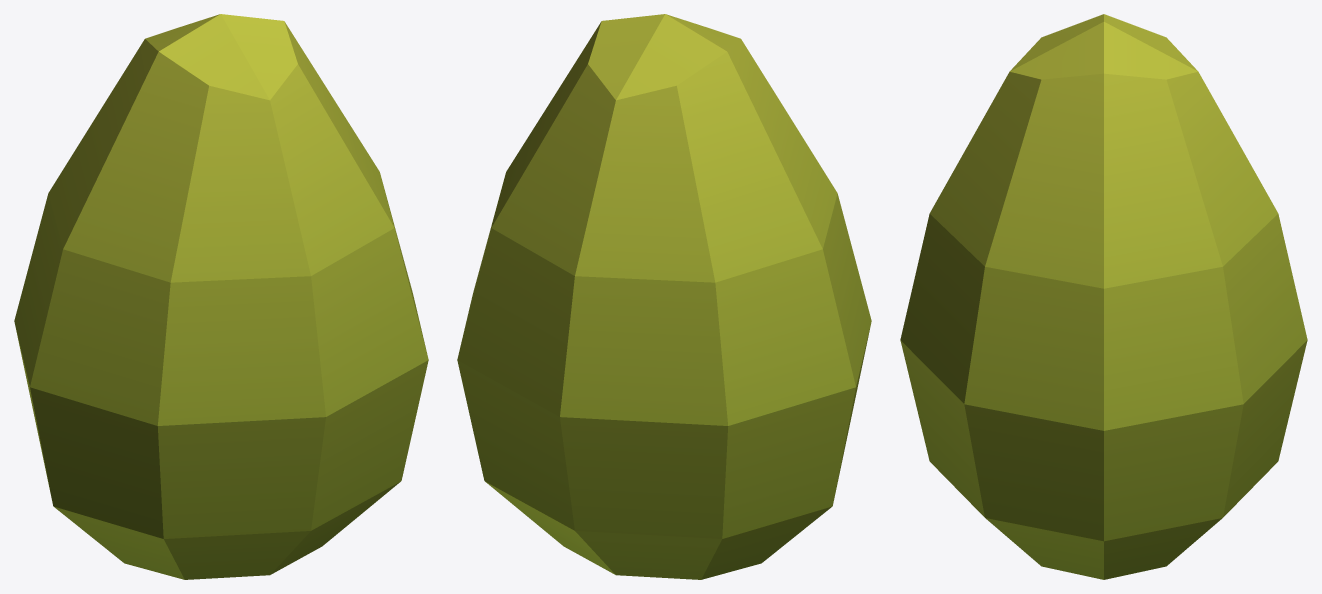
The model's file is Avocado.fbx.
3 renders of one model, left to right at view 1: azimuth 30°, elevation 25°; view 2: azimuth 150°, elevation 25°; view 3: azimuth 270°, elevation 25°, orthographic. The views are drawn at different scales.
Parts seen in each view (by area): view 1: Avocado; view 2: Avocado; view 3: Avocado.
Part boxes in pixels (<box>): Avocado: <box>14,14,428,579</box>; Avocado: <box>457,14,871,579</box>; Avocado: <box>900,14,1307,579</box>.
Size of the model in its own units: 13.19 by 18.2 by 12.48.
